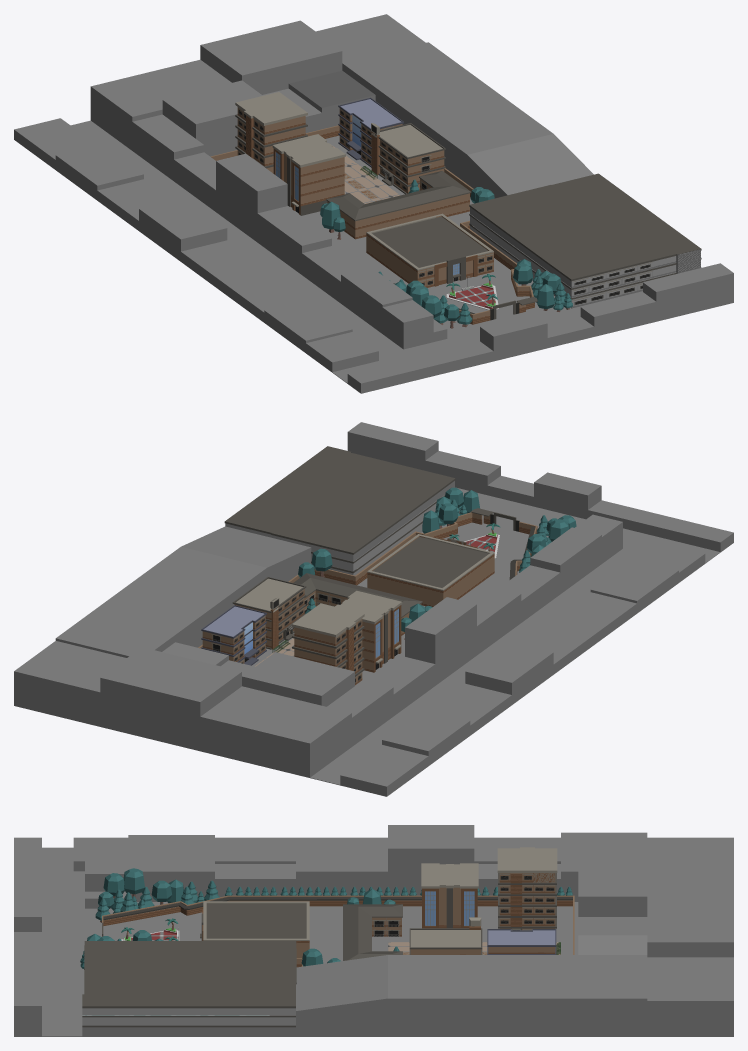
File: new_qcu_map.glb
3 views of the same model, one above another, from view 1: azimuth 30°, elevation 25°; view 2: azimuth 150°, elevation 25°; view 3: azimuth 270°, elevation 25° (orthographic). The views are drawn at different scales.
Parts seen in each view (by area): view 1: Cube, TechVoc, Yellow Bldg, Admin bldg, Bautista, computer lab, new acad building, wall, Triangle; view 2: Cube, TechVoc, Bautista, Admin bldg, new acad building, computer lab, wall, Yellow Bldg; view 3: Cube, Bautista, TechVoc, Admin bldg, wall, Yellow Bldg, computer lab, new acad building, tree_oak_dark.008, tree_oak_dark.007, tree_oak_dark.004.
Part boxes in pixels (box(x1,y1,x2,y2)): Cube: box(14, 14, 733, 393); TechVoc: box(366, 213, 493, 287); Yellow Bldg: box(326, 171, 471, 239); Admin bldg: box(272, 134, 345, 215); Bautista: box(235, 92, 307, 173); computer lab: box(371, 123, 445, 194); new acad building: box(338, 97, 403, 167); wall: box(210, 125, 537, 324); Triangle: box(446, 276, 498, 310); Cube: box(14, 422, 733, 796); TechVoc: box(367, 534, 494, 606); Bautista: box(292, 603, 364, 685); Admin bldg: box(335, 590, 402, 672); new acad building: box(201, 605, 266, 665); computer lab: box(232, 577, 306, 649); wall: box(198, 508, 537, 648); Yellow Bldg: box(293, 573, 422, 635); Cube: box(14, 825, 733, 1036); Bautista: box(497, 847, 557, 930); TechVoc: box(200, 901, 309, 958); Admin bldg: box(421, 863, 478, 928); wall: box(102, 895, 574, 967); Yellow Bldg: box(343, 904, 402, 960); computer lab: box(409, 917, 482, 954); new acad building: box(487, 929, 556, 954); tree_oak_dark.008: box(123, 868, 144, 897); tree_oak_dark.007: box(103, 873, 124, 898); tree_oak_dark.004: box(151, 880, 171, 904).
Bounding box in the file's own units: 16.02 × 2.77 × 25.8.
Materials: 12 (8 with a texture image).
